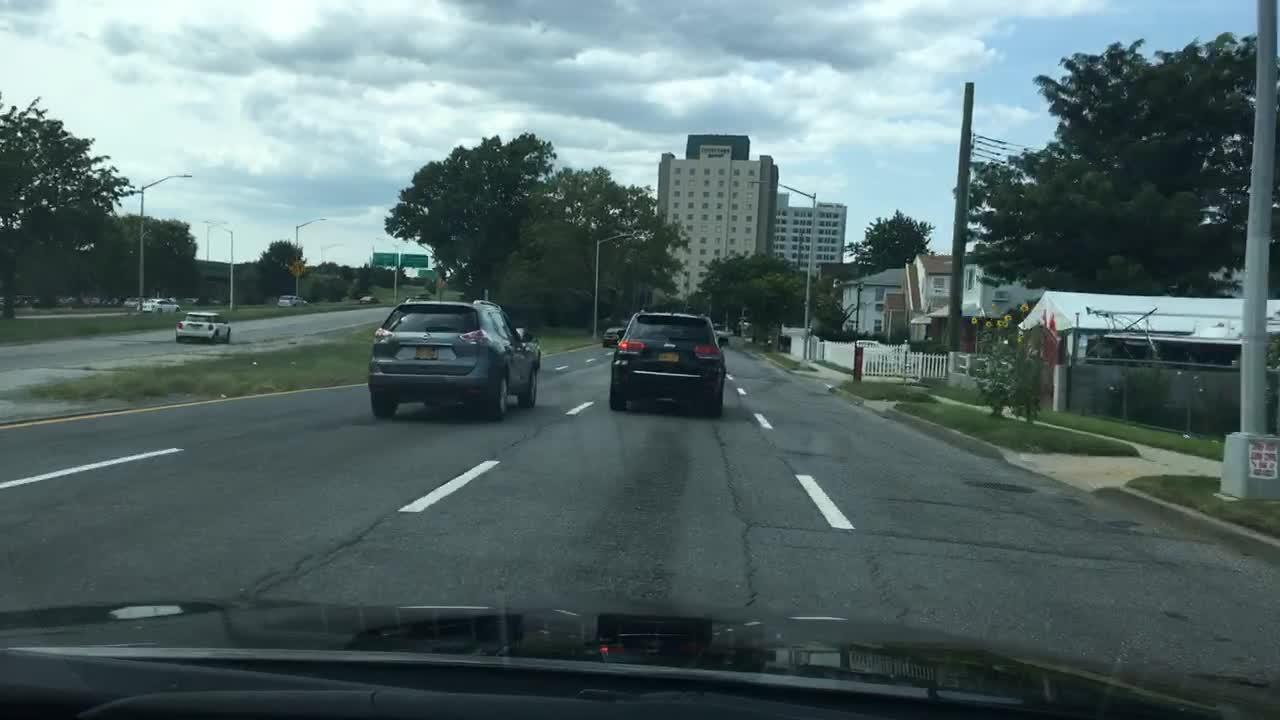Nissan: (416, 329, 433, 344)
jeep: (658, 340, 684, 354)
